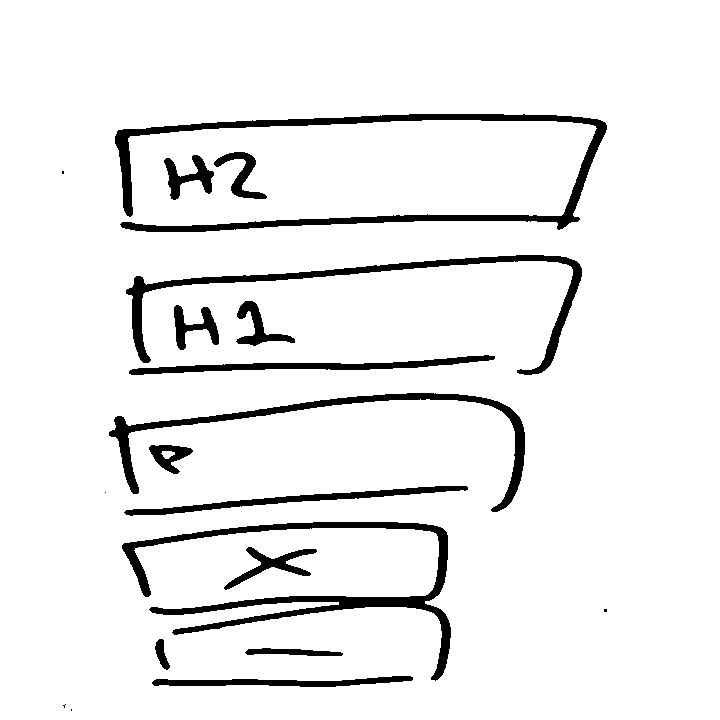button: (152, 599, 455, 693)
heading1: (124, 251, 585, 385)
heading2: (112, 110, 610, 236)
paragraph: (108, 390, 529, 517)
picture: (119, 520, 454, 608)
